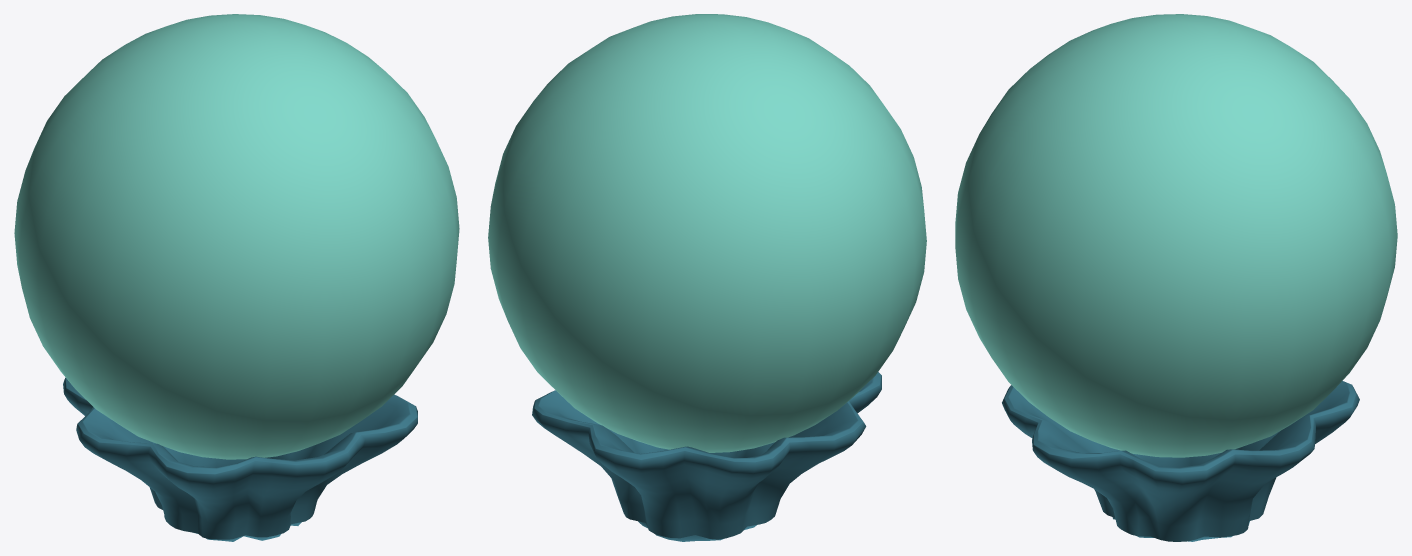
Rendered from Char_Head2_Comp_Lo.fbx.
3 renders of one model, left to right at view 1: azimuth 30°, elevation 25°; view 2: azimuth 150°, elevation 25°; view 3: azimuth 270°, elevation 25°, orthographic.
Parts seen in each view (by area): view 1: Head2_Bowl, Head2_Frill; view 2: Head2_Bowl, Head2_Frill; view 3: Head2_Bowl, Head2_Frill.
Boxes of the visible parts, bbox=[...] form: Head2_Bowl: bbox=[14, 14, 459, 459]; Head2_Frill: bbox=[63, 377, 417, 541]; Head2_Bowl: bbox=[488, 14, 926, 452]; Head2_Frill: bbox=[532, 372, 881, 541]; Head2_Bowl: bbox=[955, 14, 1397, 457]; Head2_Frill: bbox=[1002, 381, 1359, 541].
Bounding box in the file's own units: 43.34 × 52.17 × 43.26.
